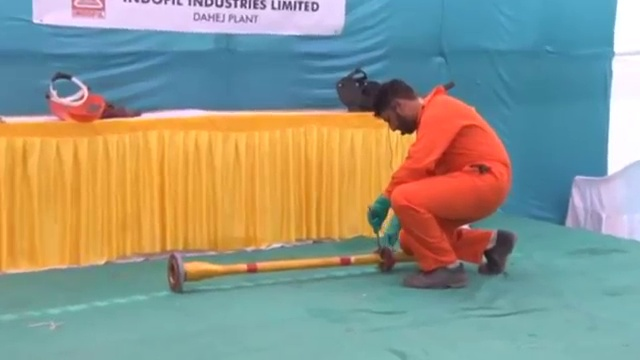helmet_off: (372, 80, 423, 138)
person: (365, 69, 519, 286)
